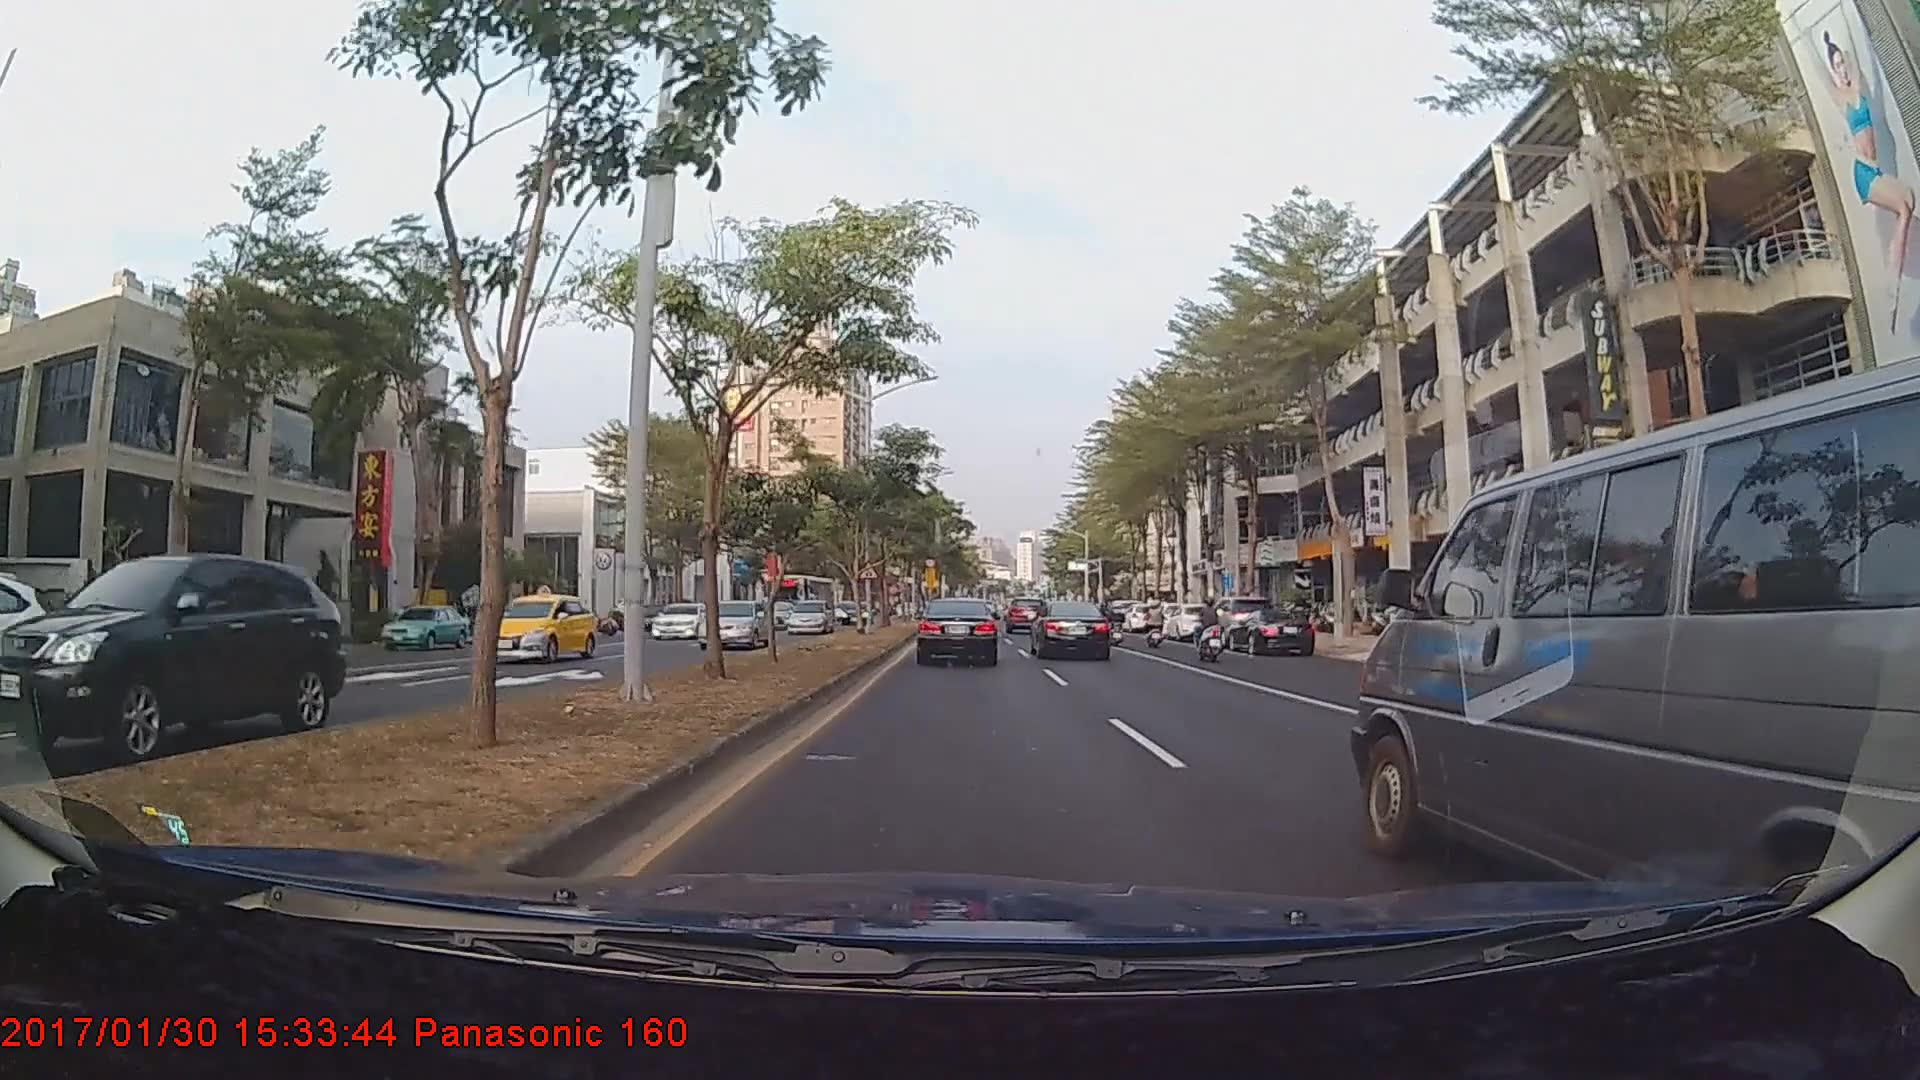rider: (1190, 592, 1235, 663), (1142, 588, 1171, 645)
vehicle: (1344, 406, 1903, 912), (0, 551, 348, 762), (477, 592, 595, 665), (917, 596, 1000, 668), (1032, 600, 1111, 660), (763, 572, 838, 629), (1227, 605, 1314, 653), (378, 604, 470, 649), (1200, 594, 1275, 647), (696, 597, 771, 649), (1161, 601, 1217, 639), (651, 601, 706, 641), (787, 596, 834, 634), (1006, 592, 1046, 629), (837, 599, 869, 622)
